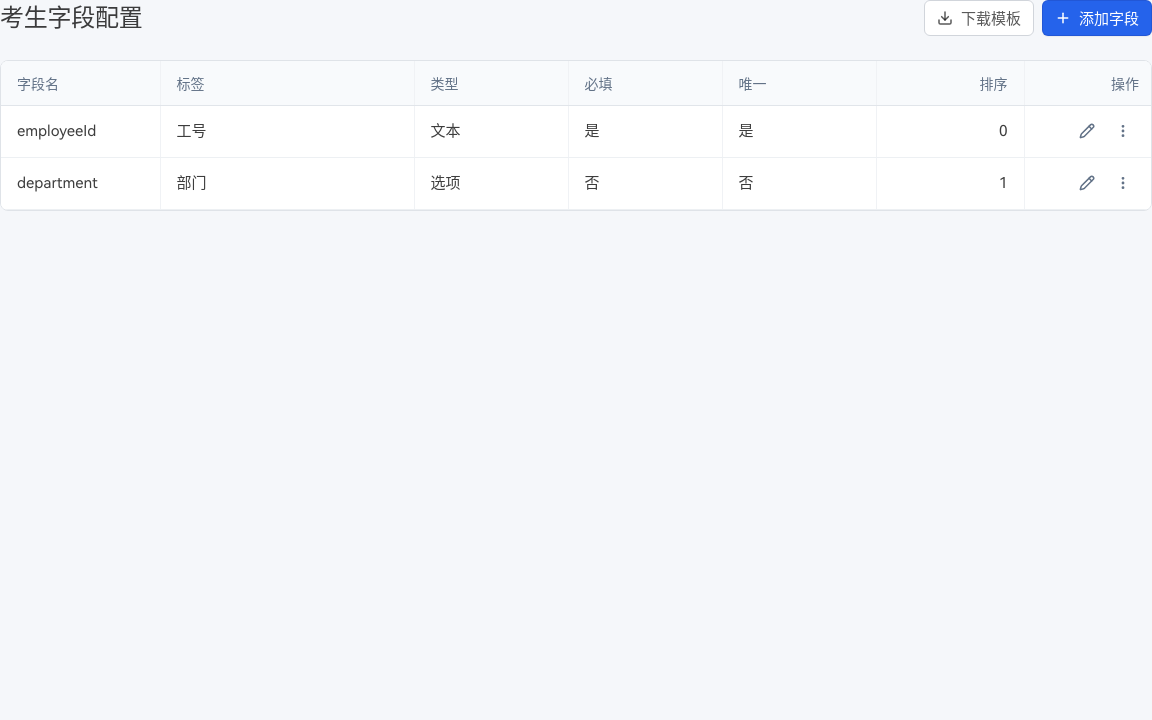
Scenario: CandidateFieldsPage › opens create dialog
The width and height of the screenshot is (1152, 720).
Click the button "添加字段" at (1097, 18), box [1042,0,1151,36]
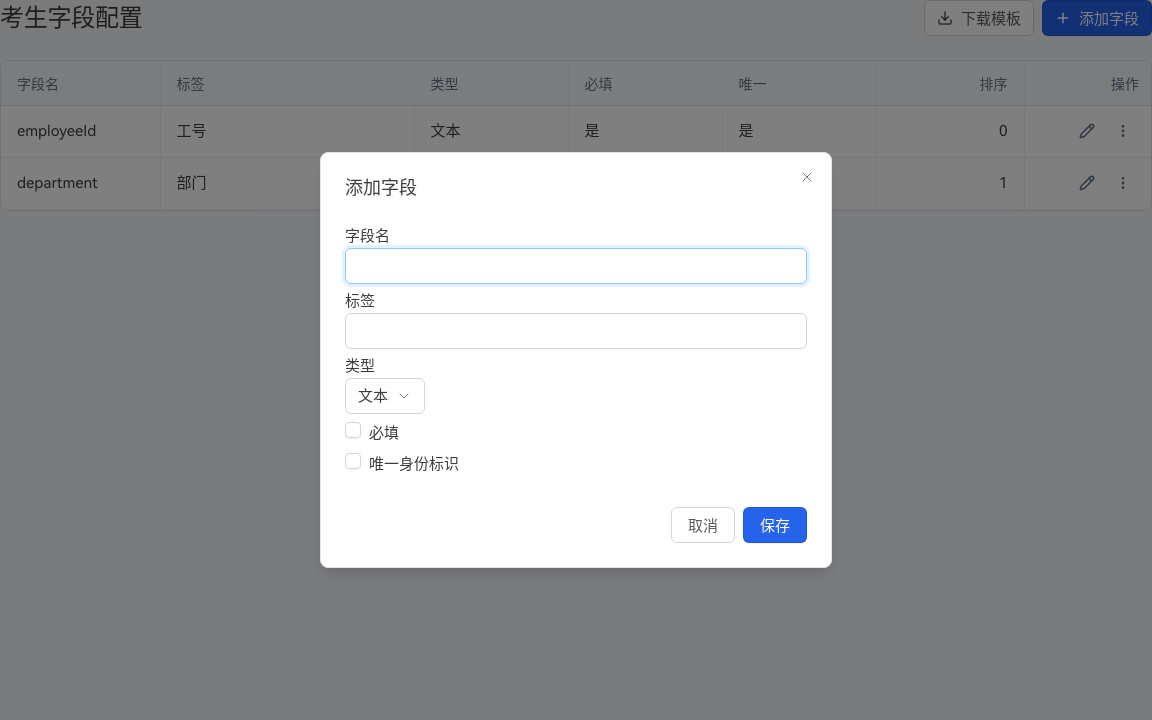
Result: the dialog is shown at [320,152,832,568]
